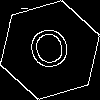O: (25, 25, 77, 81)
